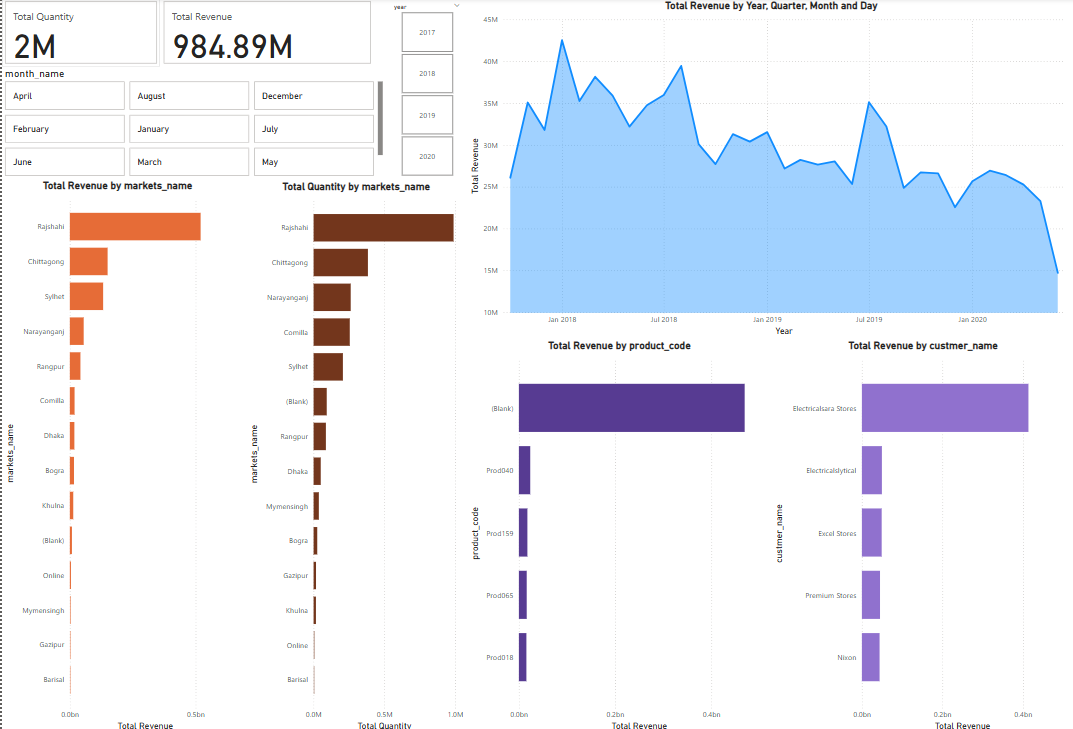

Layout of this report page (visuals, bound fields, positions):
{"tool":"powerbi","page":{"name":"Page 1","canvas":[1750,1200],"ordinal":0},"visuals":[{"type":"cardVisual","fields":{"Data":["Measurements.Total Quantity"]},"box":[0,0,258.9,112.6],"z":0},{"type":"cardVisual","fields":{"Data":["Measurements.Total Revenue"]},"box":[258.9,0,349,112.6],"z":1000},{"type":"slicer","fields":{"Values":["salesbd date.year"]},"box":[626.6,1.9,133.2,294.5],"z":2000},{"type":"advancedSlicerVisual","fields":{"Values":["salesbd date.month_name"]},"box":[0,112.6,626.6,183.9],"z":3000},{"type":"lineChart","fields":{"Y":["Measurements.Total Revenue"],"Category":["salesbd date.cy_date.Variation.Date Hierarchy.Year","salesbd date.cy_date.Variation.Date Hierarchy.Quarter","salesbd date.cy_date.Variation.Date Hierarchy.Month","salesbd date.cy_date.Variation.Date Hierarchy.Day"]},"box":[758.2,2,992.5,554.4],"z":4000},{"type":"barChart","fields":{"Category":["salesbd markets.markets_name"],"Y":["Measurements.Total Quantity"]},"box":[397.4,297.6,360.7,902.9],"z":5000},{"type":"barChart","fields":{"Y":["Measurements.Total Revenue"],"Category":["salesbd markets.markets_name"]},"box":[0,295.5,377,904.9],"z":5001},{"type":"barChart","fields":{"Category":["salesbd products.product_code"],"Y":["Measurements.Total Revenue"]},"box":[758.2,556.4,497.3,644],"z":5002},{"type":"barChart","fields":{"Y":["Measurements.Total Revenue"],"Category":["salesbd customers.custmer_name"]},"box":[1253.4,556.4,497.3,644],"z":5003}]}

Visuals, with their boxes in screenshot pixels (x1, y1, x2, y2), scaled from the page's 1750x1200 canvas onto the 1073x729 screenshot:
cardVisual - Measurements.Total Quantity: x1=0 y1=0 x2=159 y2=68
cardVisual - Measurements.Total Revenue: x1=159 y1=0 x2=373 y2=68
slicer - salesbd date.year: x1=384 y1=1 x2=466 y2=180
advancedSlicerVisual - salesbd date.month_name: x1=0 y1=68 x2=384 y2=180
lineChart - Measurements.Total Revenue x salesbd date.cy_date.Variation.Date Hierarchy.Year: x1=465 y1=1 x2=1072 y2=338
barChart - salesbd markets.markets_name x Measurements.Total Quantity: x1=244 y1=181 x2=465 y2=728
barChart - Measurements.Total Revenue x salesbd markets.markets_name: x1=0 y1=180 x2=231 y2=728
barChart - salesbd products.product_code x Measurements.Total Revenue: x1=465 y1=338 x2=770 y2=728
barChart - Measurements.Total Revenue x salesbd customers.custmer_name: x1=769 y1=338 x2=1072 y2=728
